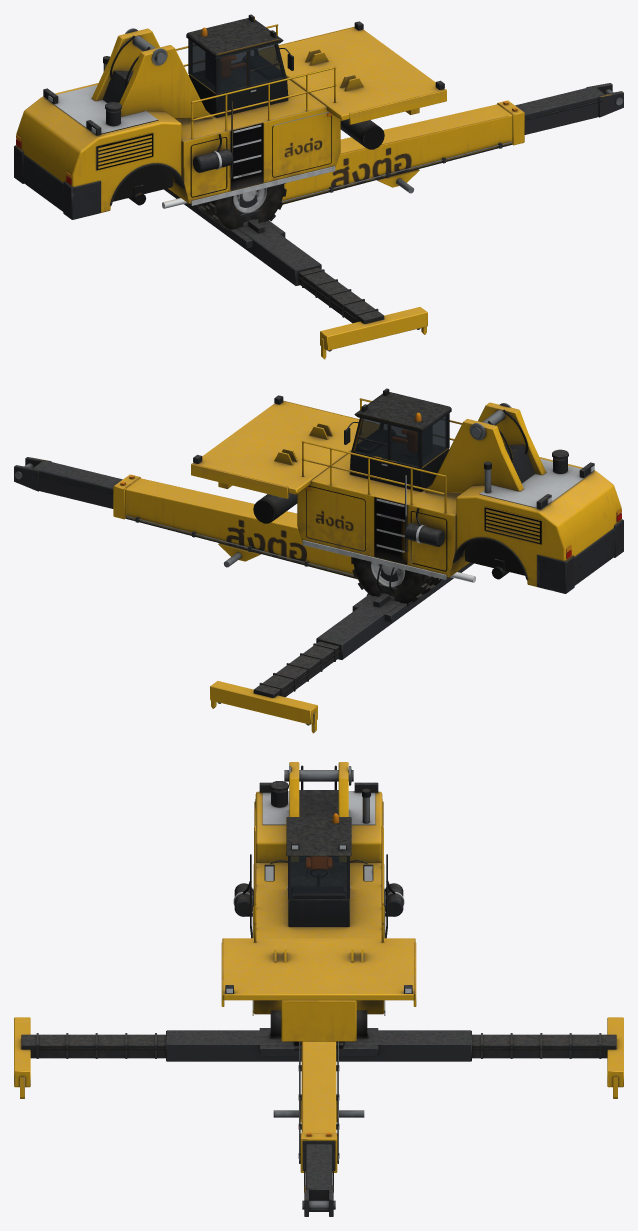
The model's file is stacker.glb.
3 views of the same model, one above another, from view 1: azimuth 30°, elevation 25°; view 2: azimuth 150°, elevation 25°; view 3: azimuth 270°, elevation 25° (orthographic). The views are drawn at different scales.
Parts seen in each view (by area): view 1: stacker_body, stacker_boom, stacker_spreader, stacker_inner, stacker_glass, stacker_wheel_front; view 2: stacker_body, stacker_boom, stacker_spreader, stacker_inner, stacker_glass, stacker_wheel_front; view 3: stacker_body, stacker_spreader, stacker_boom, stacker_glass, stacker_inner.
Boxes of the visible parts, x1,y1,x2,y2 form: stacker_body: (14, 14, 446, 219); stacker_boom: (236, 100, 524, 209); stacker_spreader: (164, 188, 427, 359); stacker_inner: (515, 83, 623, 134); stacker_glass: (191, 41, 282, 92); stacker_wheel_front: (197, 183, 286, 231); stacker_body: (191, 388, 623, 593); stacker_boom: (113, 474, 401, 583); stacker_spreader: (210, 562, 473, 733); stacker_inner: (14, 457, 122, 508); stacker_glass: (355, 415, 446, 466); stacker_wheel_front: (351, 557, 441, 606); stacker_body: (221, 762, 416, 1041); stacker_spreader: (14, 1017, 623, 1098); stacker_boom: (273, 1041, 364, 1172); stacker_glass: (291, 856, 346, 898); stacker_inner: (302, 1144, 335, 1216).
Size of the model in its own units: 14.8 by 5.69 by 12.35.
Materials: 2 (1 with a texture image).
